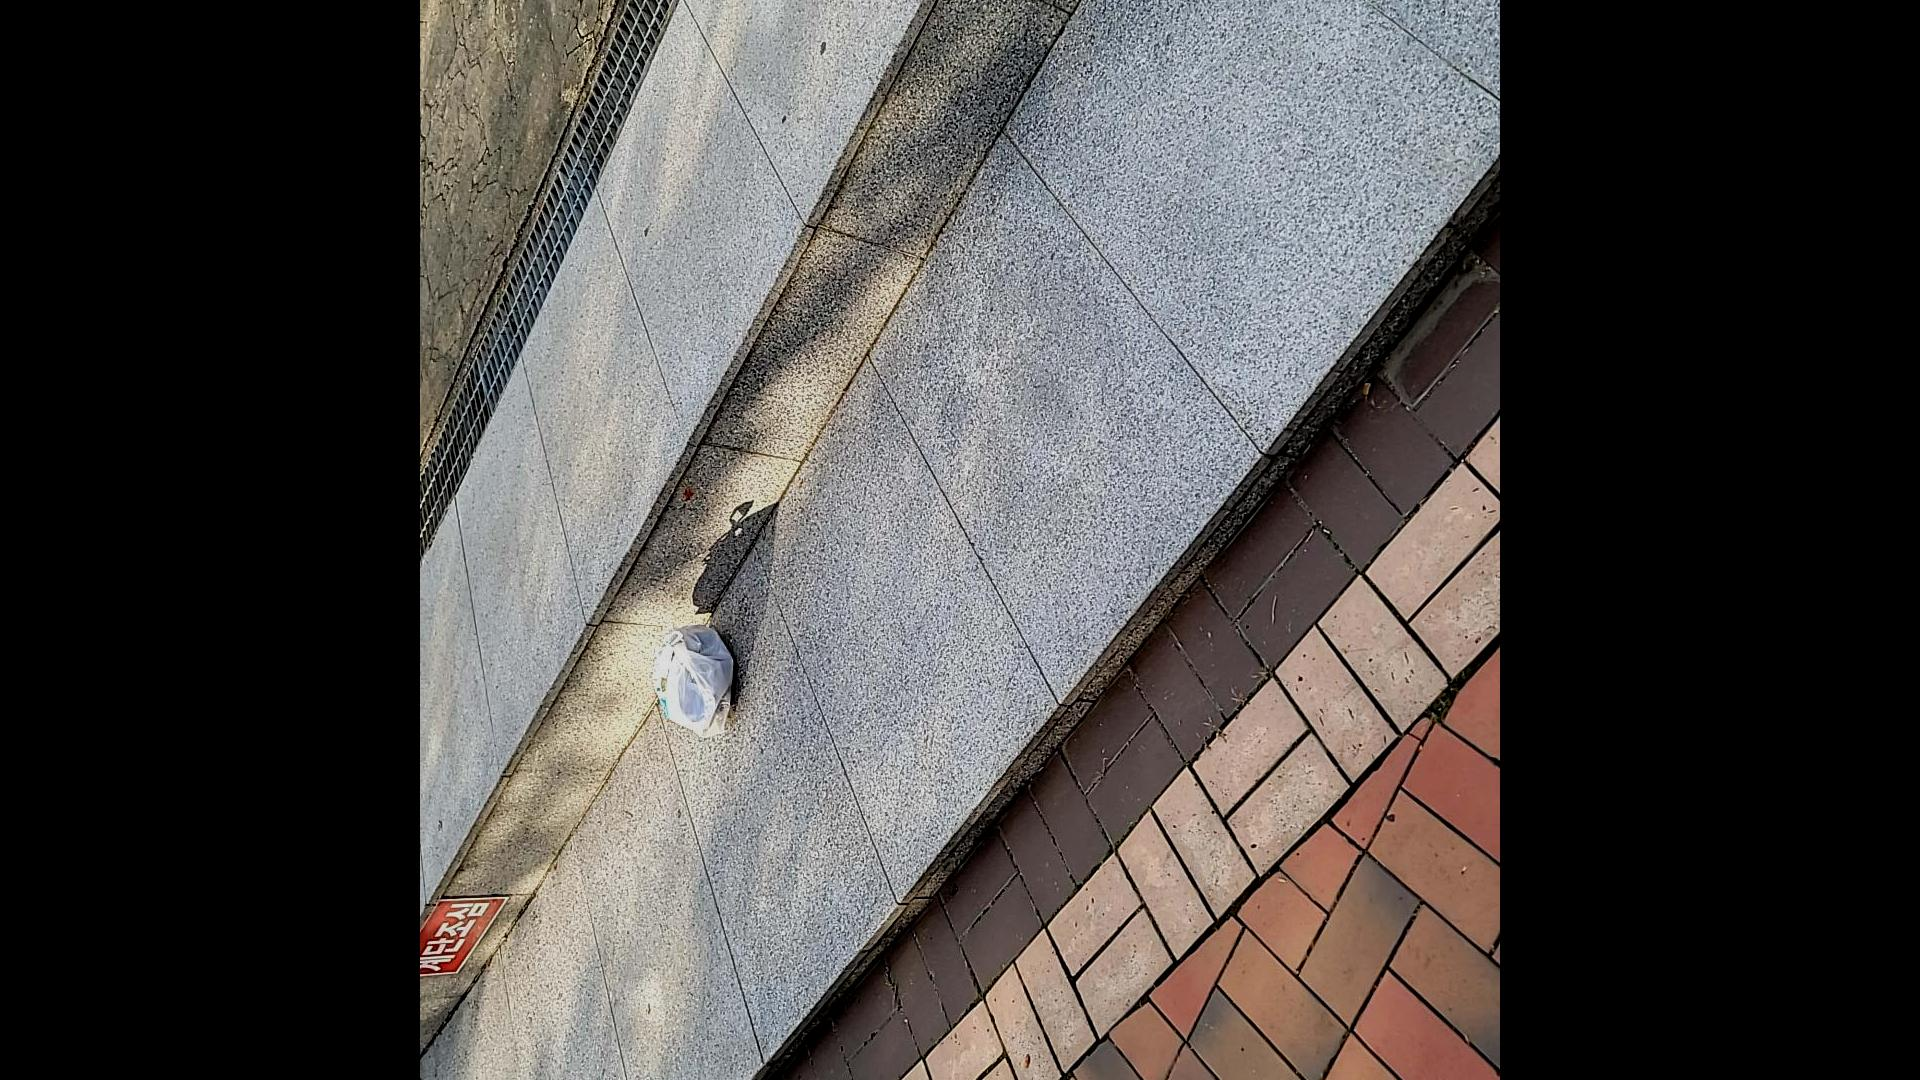white_bag: (650, 617, 742, 737)
